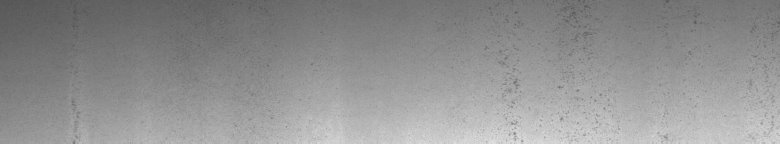ib: (498, 4, 596, 136)
